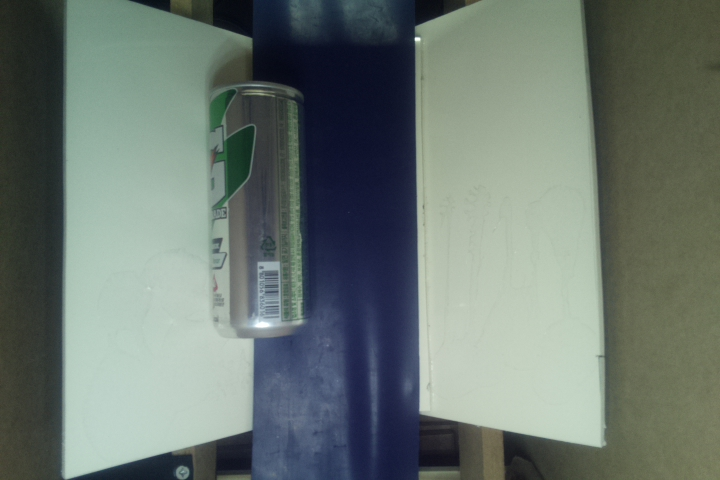can: (203, 82, 311, 341)
